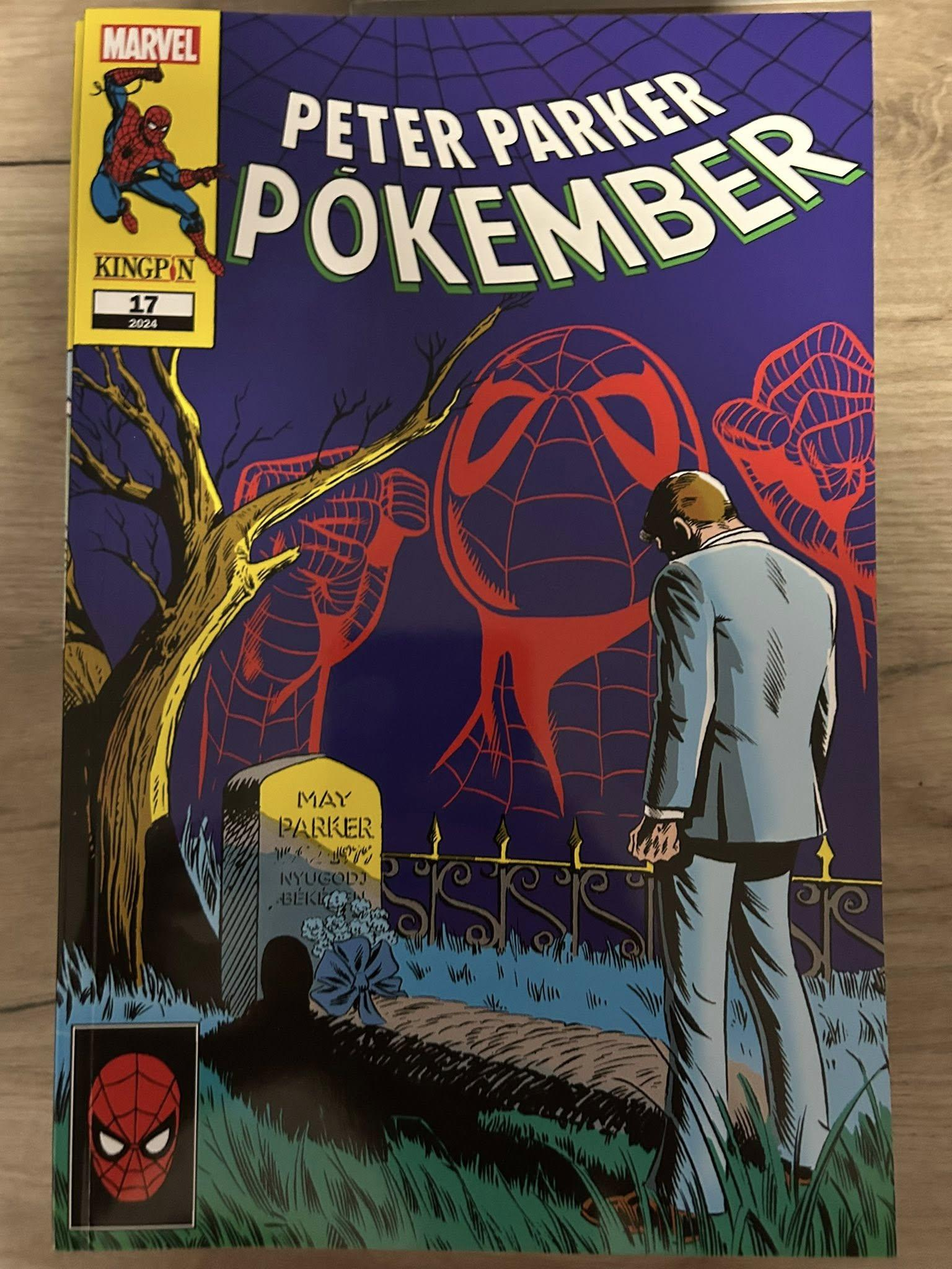comic: (54, 8, 898, 1255)
